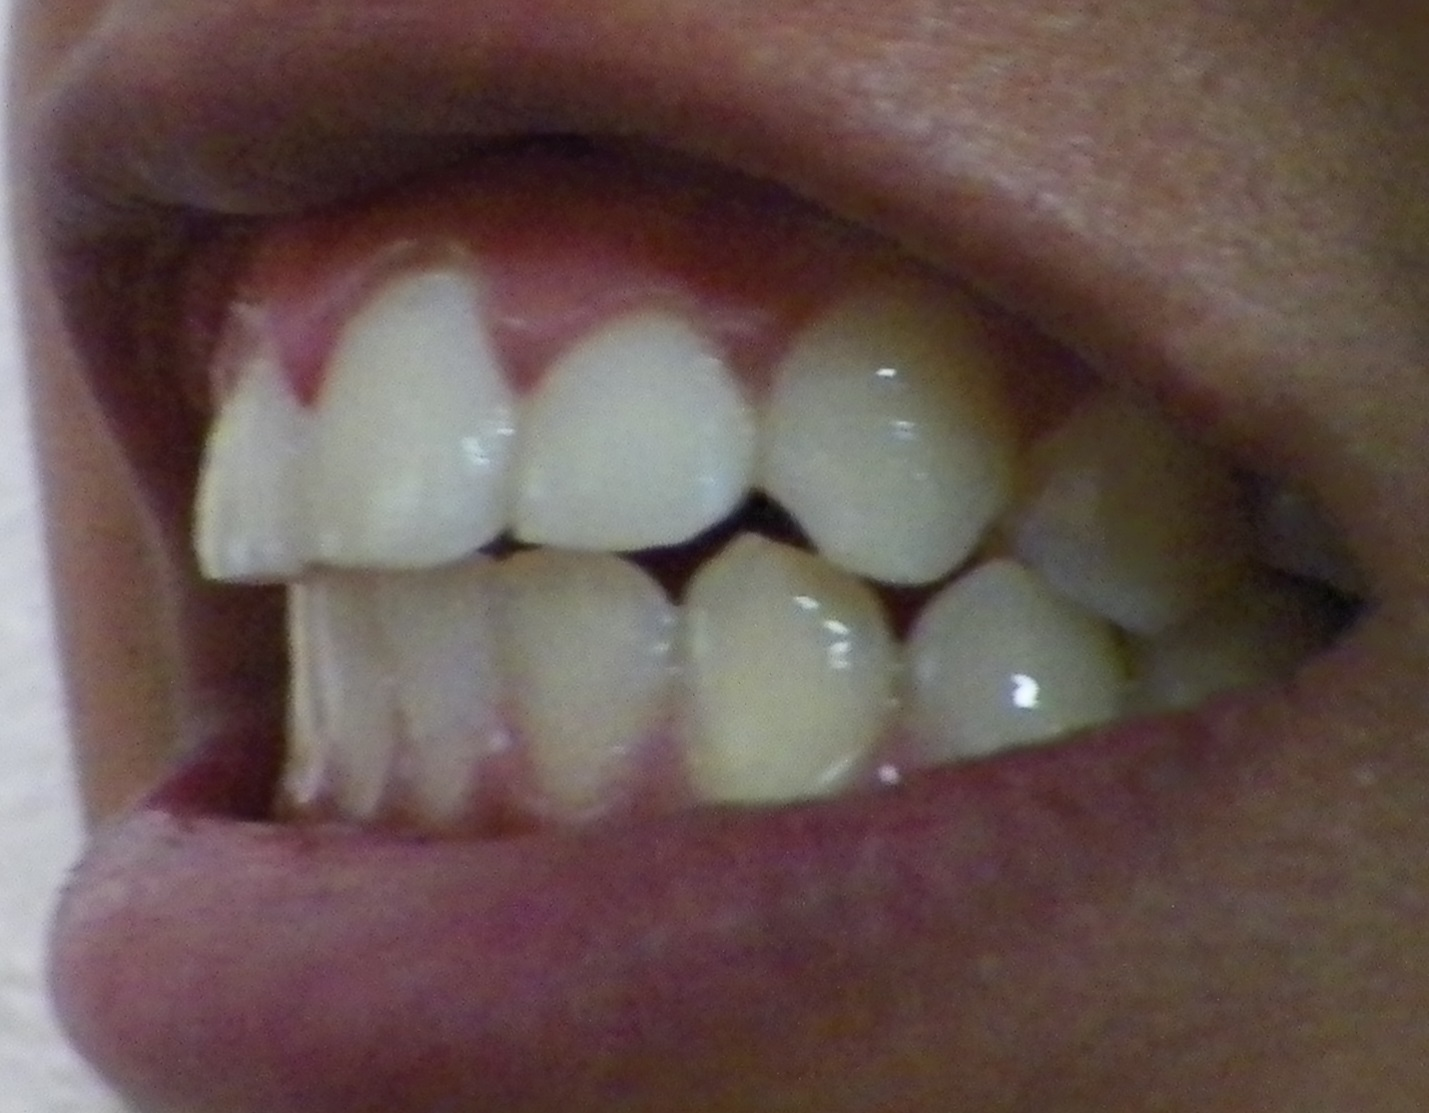boca: (194, 265, 1318, 795)
